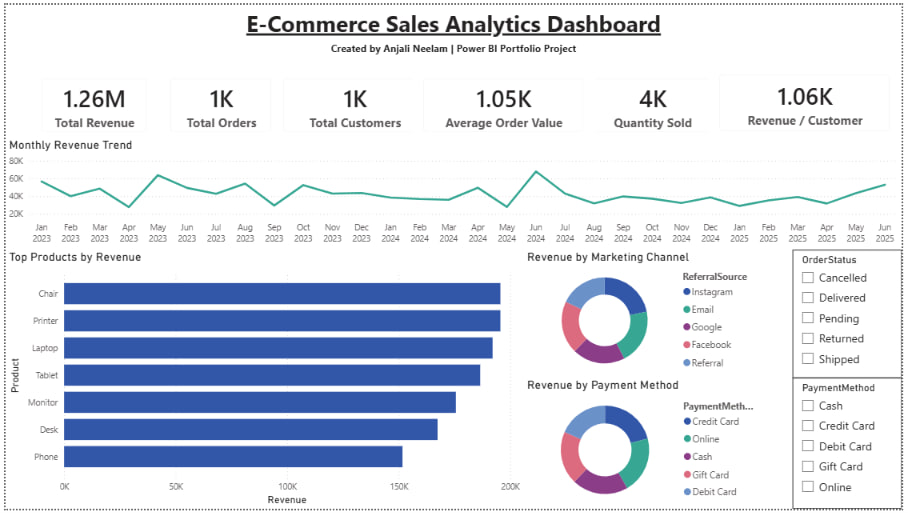

The page's visual inventory and layout, read from the dashboard file:
{"tool":"powerbi","page":{"name":"Page 1","canvas":[1280,720],"ordinal":0},"visuals":[{"type":"cardVisual","fields":{"Data":["Sum(Sheet1.TotalPrice)"]},"box":[34.3,88.6,184.3,110],"z":0},{"type":"cardVisual","fields":{"Data":["Sheet1.Total Orders"]},"box":[218.6,88.6,178.6,110],"z":1000},{"type":"cardVisual","fields":{"Data":["Sheet1.Total Customers"]},"box":[380,88.6,237.1,110],"z":2000},{"type":"cardVisual","fields":{"Data":["Sheet1.Quantity Sold"]},"box":[811.4,88.6,225.7,110],"z":3000},{"type":"cardVisual","fields":{"Data":["Sheet1.Average Order Value"]},"box":[580,88.6,262.9,110],"z":4000},{"type":"lineChart","title":"Monthly Revenue Trend","fields":{"Y":["Sum(Sheet1.TotalPrice)"],"Category":["Sheet1.Month Year"]},"box":[0,190,1280,160],"z":5000},{"type":"clusteredBarChart","title":"Top Products by Revenue","fields":{"Category":["Sheet1.Product"],"Y":["Sum(Sheet1.TotalPrice)"]},"box":[0,350,740,370],"z":6000},{"type":"donutChart","title":"Revenue by Payment Method","fields":{"Category":["Sheet1.PaymentMethod"],"Y":["Sum(Sheet1.TotalPrice)"]},"box":[740,532.9,340,187.1],"z":7000},{"type":"donutChart","title":"Revenue by Marketing Channel","fields":{"Category":["Sheet1.ReferralSource"],"Y":["Sum(Sheet1.TotalPrice)"]},"box":[740,350,340,182.9],"z":8000},{"type":"slicer","fields":{"Values":["Sheet1.OrderStatus"]},"box":[1124.3,350,155.7,182.9],"z":9000},{"type":"slicer","fields":{"Values":["Sheet1.PaymentMethod"]},"box":[1124.3,532.9,155.7,187.1],"z":10000},{"type":"textbox","box":[0,0,1280,57.1],"z":11000},{"type":"cardVisual","fields":{"Data":["Sheet1.Average Revenue Per Customer"]},"box":[1002.9,82.9,277.1,115.7],"z":12000},{"type":"textbox","box":[0,47.1,1280,35.7],"z":12001}]}

Visuals, with their boxes in screenshot pixels (x1, y1, x2, y2), scaled from the page's 1280x720 canvas onto the 908x513 screenshot:
cardVisual - Sum(Sheet1.TotalPrice): 24, 63, 155, 142
cardVisual - Sheet1.Total Orders: 155, 63, 282, 142
cardVisual - Sheet1.Total Customers: 270, 63, 438, 142
cardVisual - Sheet1.Quantity Sold: 576, 63, 736, 142
cardVisual - Sheet1.Average Order Value: 411, 63, 598, 142
"Monthly Revenue Trend" lineChart: 0, 135, 907, 249
"Top Products by Revenue" clusteredBarChart: 0, 249, 525, 512
"Revenue by Payment Method" donutChart: 525, 380, 766, 512
"Revenue by Marketing Channel" donutChart: 525, 249, 766, 380
slicer - Sheet1.OrderStatus: 798, 249, 907, 380
slicer - Sheet1.PaymentMethod: 798, 380, 907, 512
textbox: 0, 0, 907, 41
cardVisual - Sheet1.Average Revenue Per Customer: 711, 59, 907, 142
textbox: 0, 34, 907, 59
